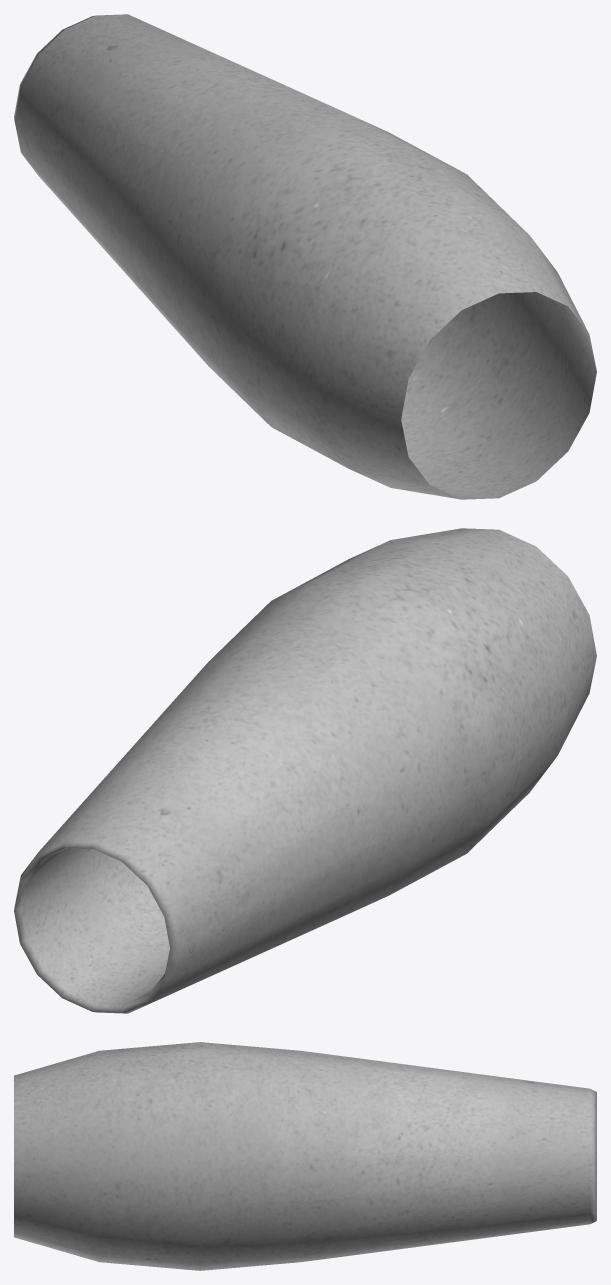
Rendered from vase003.FBX.
3 views of the same model, one above another, from view 1: azimuth 30°, elevation 25°; view 2: azimuth 150°, elevation 25°; view 3: azimuth 270°, elevation 25° (orthographic). The views are drawn at different scales.
Visible parts, largest first — view 1: vase003; view 2: vase003; view 3: vase003.
Part boxes in pixels (x1,y1,x2,y2): vase003: (14, 14, 596, 499); vase003: (14, 528, 596, 1013); vase003: (14, 1042, 596, 1270).
Bounding box in the file's own units: 14.76 × 14.76 × 37.56.
